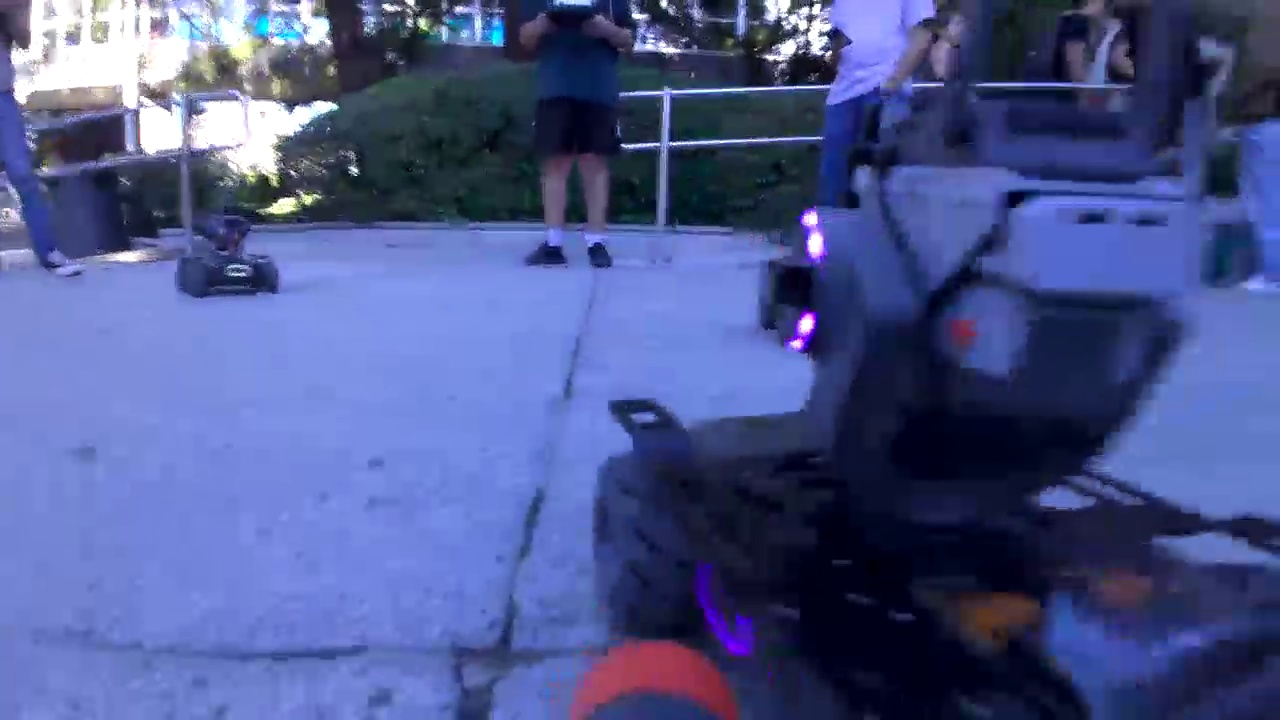robot: (587, 185, 1263, 720), (171, 211, 299, 302)
